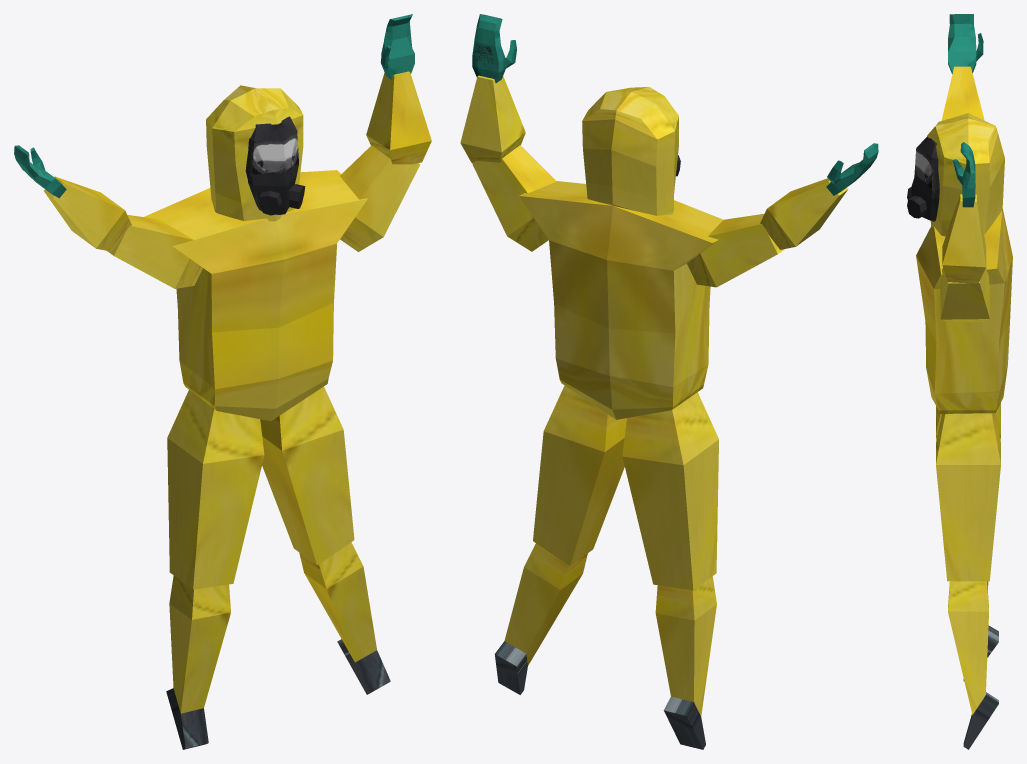
Rendered from DeadTherophist2.fbx.
3 renders of one model, left to right at view 1: azimuth 30°, elevation 25°; view 2: azimuth 150°, elevation 25°; view 3: azimuth 270°, elevation 25°, orthographic. The views are drawn at different scales.
Parts seen in each view (by area): view 1: body; view 2: body; view 3: body.
Boxes of the visible parts, bbox=[...] form: body: bbox=[14, 14, 431, 749]; body: bbox=[460, 14, 878, 749]; body: bbox=[907, 14, 1012, 749].
Size of the model in its own units: 248 by 403 by 62.05.
